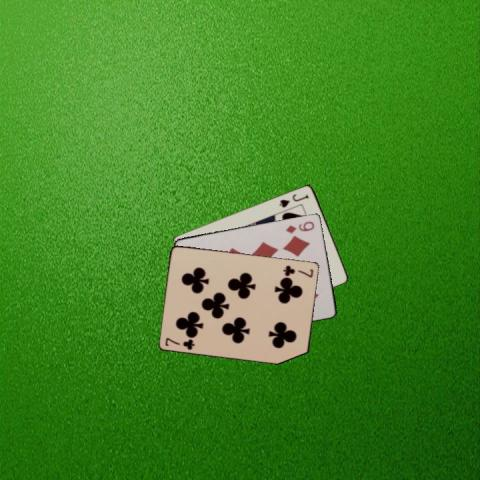7c: (280, 262, 314, 278), (162, 334, 196, 350)
9d: (283, 218, 316, 235)
Js: (276, 191, 310, 208)
